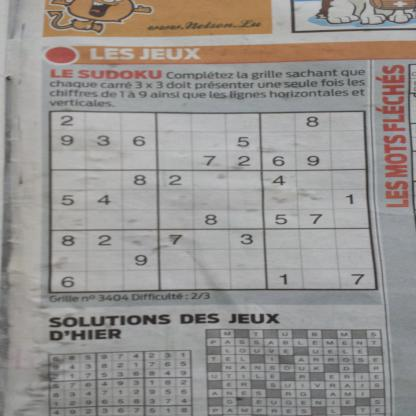sudoku: (46, 107, 380, 294)
